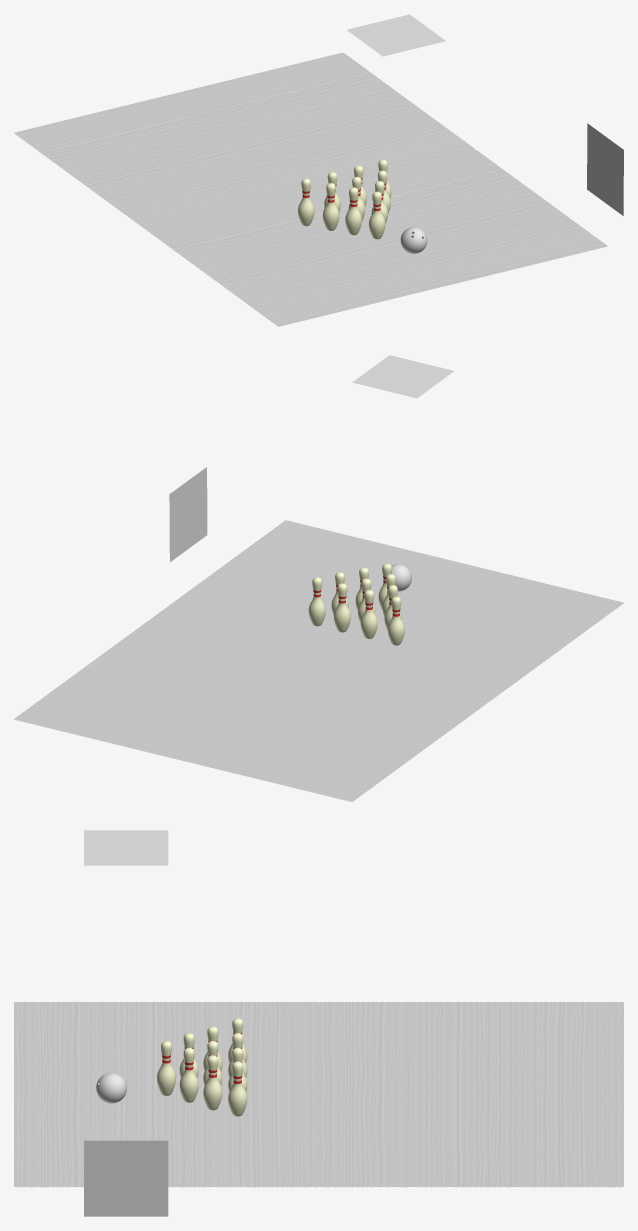
File: Bowling.fbx
3 views of the same model, one above another, from view 1: azimuth 30°, elevation 25°; view 2: azimuth 150°, elevation 25°; view 3: azimuth 270°, elevation 25° (orthographic). The views are drawn at different scales.
Parts seen in each view (by area): view 1: Floor, Light1, Light2, Bowling Ball, Pin1, Pin2, Pin5, Pin9; view 2: Floor, Light1, Light2; view 3: Floor, Light1, Light2, Bowling Ball, Pin6, Pin3, Pin10, Pin1.
Boxes of the visible parts, left/top/right/bottom form: Floor: left=14, top=52, right=607, bottom=326; Light1: left=587, top=123, right=623, bottom=215; Light2: left=347, top=14, right=445, bottom=56; Bowling Ball: left=400, top=227, right=427, bottom=253; Pin1: left=368, top=191, right=385, bottom=239; Pin2: left=345, top=187, right=361, bottom=235; Pin5: left=322, top=183, right=339, bottom=230; Pin9: left=298, top=178, right=314, bottom=226; Floor: left=14, top=520, right=623, bottom=801; Light1: left=169, top=467, right=207, bottom=561; Light2: left=352, top=355, right=453, bottom=398; Floor: left=14, top=1001, right=623, bottom=1187; Light1: left=84, top=1140, right=168, bottom=1216; Light2: left=84, top=830, right=168, bottom=865; Bowling Ball: left=96, top=1072, right=126, bottom=1103; Pin6: left=203, top=1055, right=222, bottom=1110; Pin3: left=179, top=1047, right=198, bottom=1102; Pin10: left=228, top=1061, right=247, bottom=1116; Pin1: left=157, top=1041, right=175, bottom=1095.
Bounding box in the file's own units: 3219 × 1787 × 3931.
